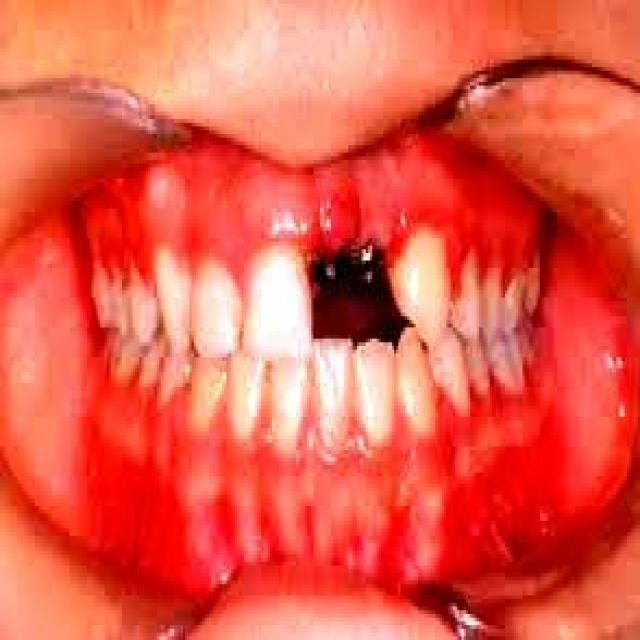caries: (310, 235, 396, 316)
